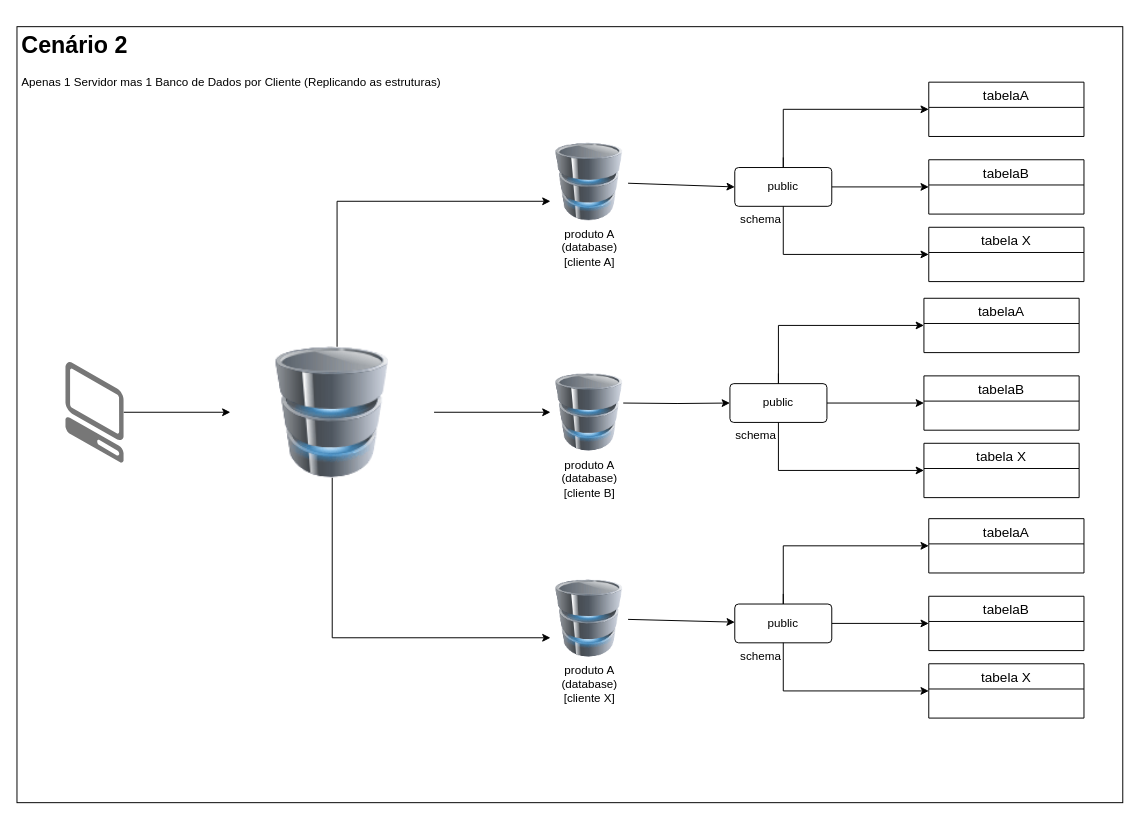
The diagram is 1140 pixels wide and 820 high, and some of its shapes have lost their labels. Each missing label, with the centre of its shape:
"pgADMIN" goes at (94,411).
"Server PostgreSQL" goes at (332,411).
